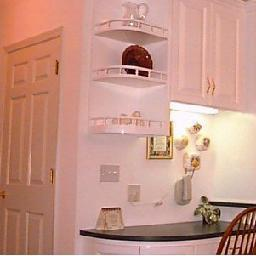Puerta: (6, 50, 54, 252)
